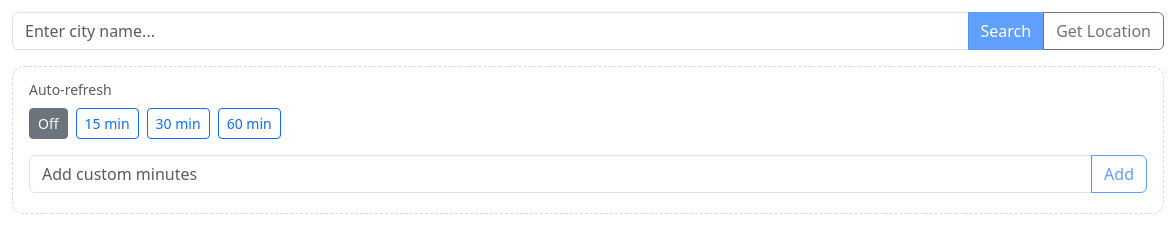
Test: SearchBar › shows error toast on geolocation failure
This screenshot has width=1176, height=231.
Click the button "Get Location": click(1104, 31) left=1043, top=12, right=1164, bottom=50
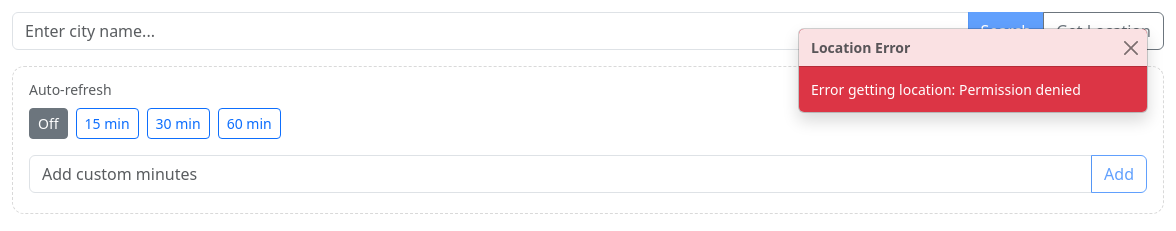
Expected: the text "Error getting location: Permission denied" is shown, left=811, top=80, right=1081, bottom=99
